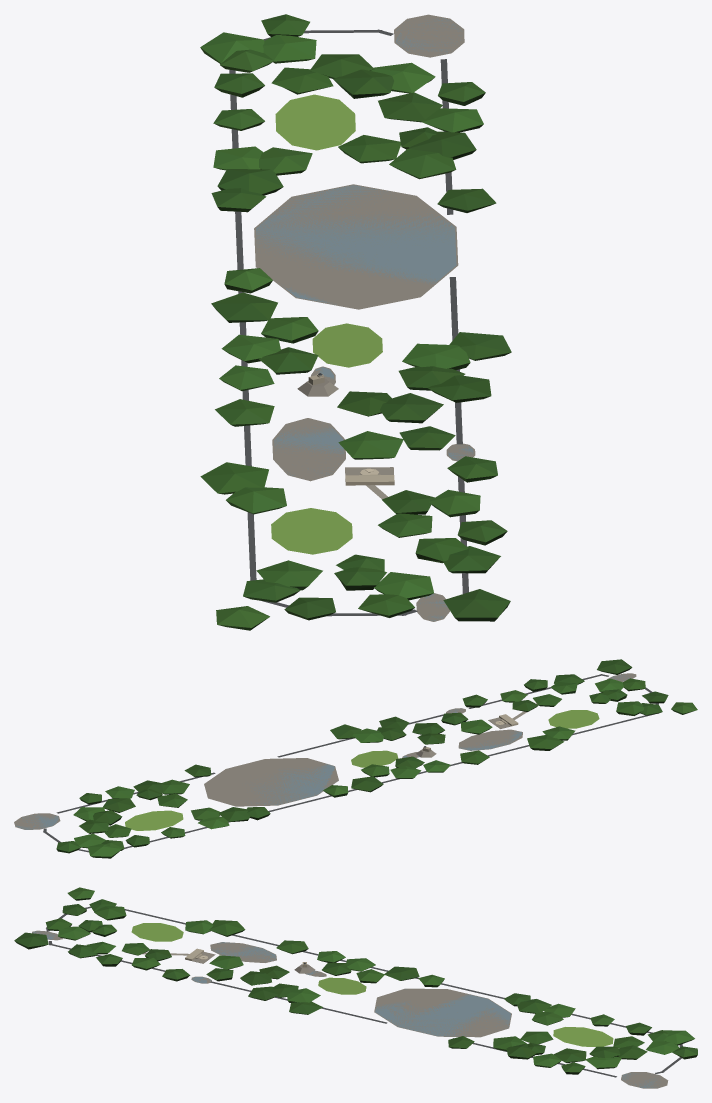
3 renders of one model, top to bottom at view 1: azimuth 30°, elevation 25°; view 2: azimuth 150°, elevation 25°; view 3: azimuth 270°, elevation 25°, orthographic. The views are drawn at different scales.
Visible parts, largest first — view 1: central-park-lod2; view 2: central-park-lod2; view 3: central-park-lod2.
Boxes of the visible parts, x1,y1,x2,y2 form: central-park-lod2: (200, 14, 511, 630); central-park-lod2: (14, 659, 697, 858); central-park-lod2: (14, 887, 697, 1088).
Bounding box in the file's own units: 2648 × 48.83 × 3846.
